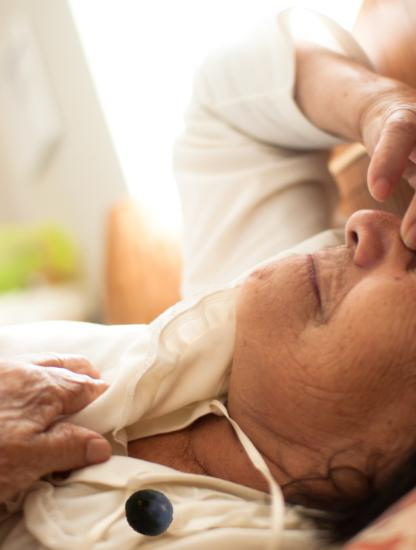Plum: (124, 487, 175, 538)
